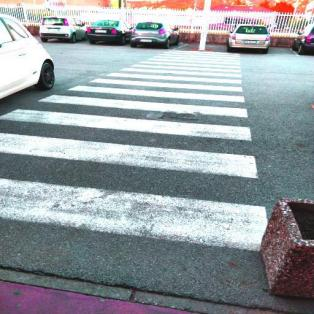Paso de Cebra: (0, 130, 275, 260), (64, 76, 248, 106)
